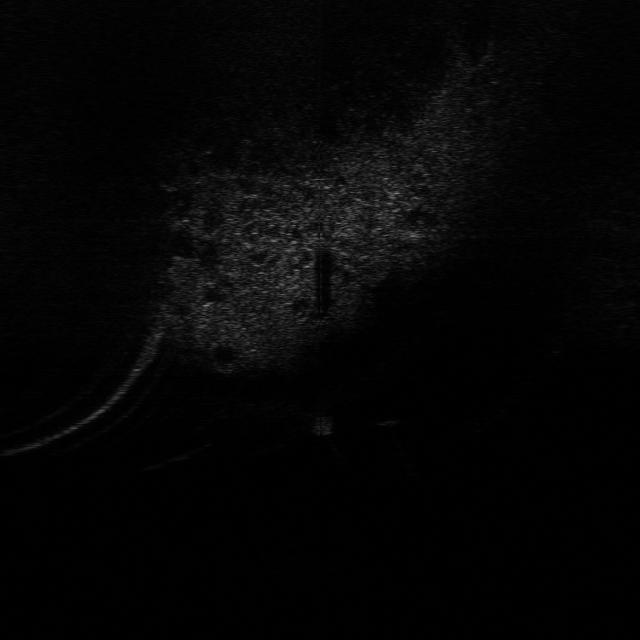cube: (369, 403, 407, 429)
cylinder: (307, 407, 339, 440)
